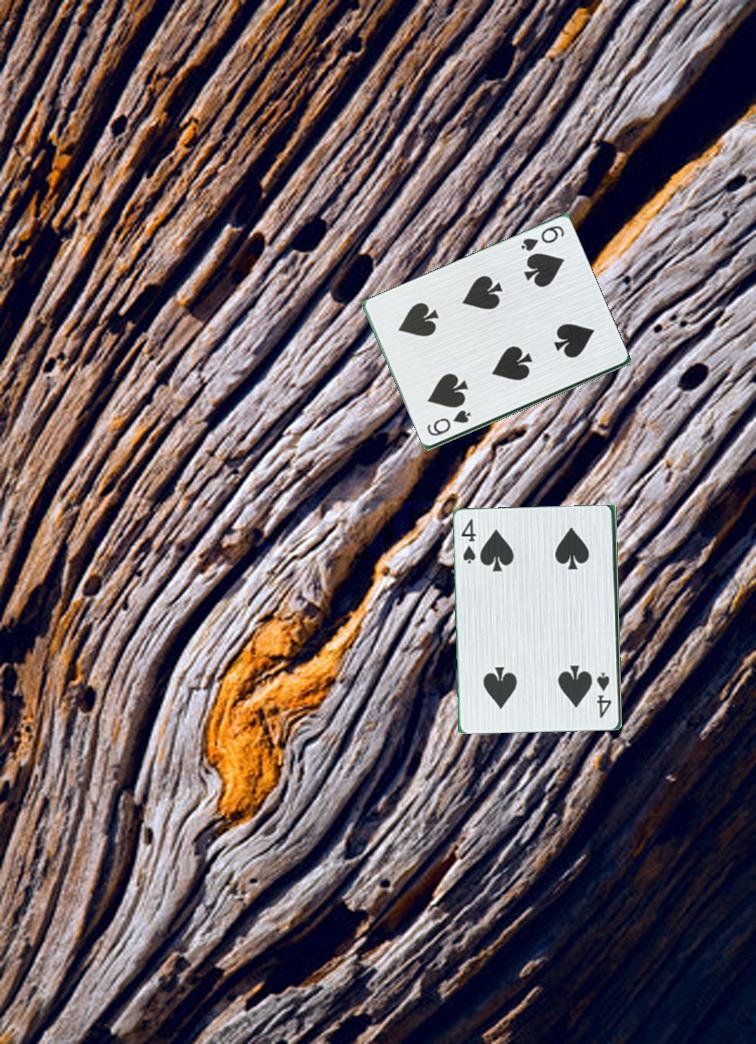4s: (458, 516, 480, 570), (594, 669, 615, 721)
6s: (515, 222, 567, 255), (423, 407, 474, 439)
